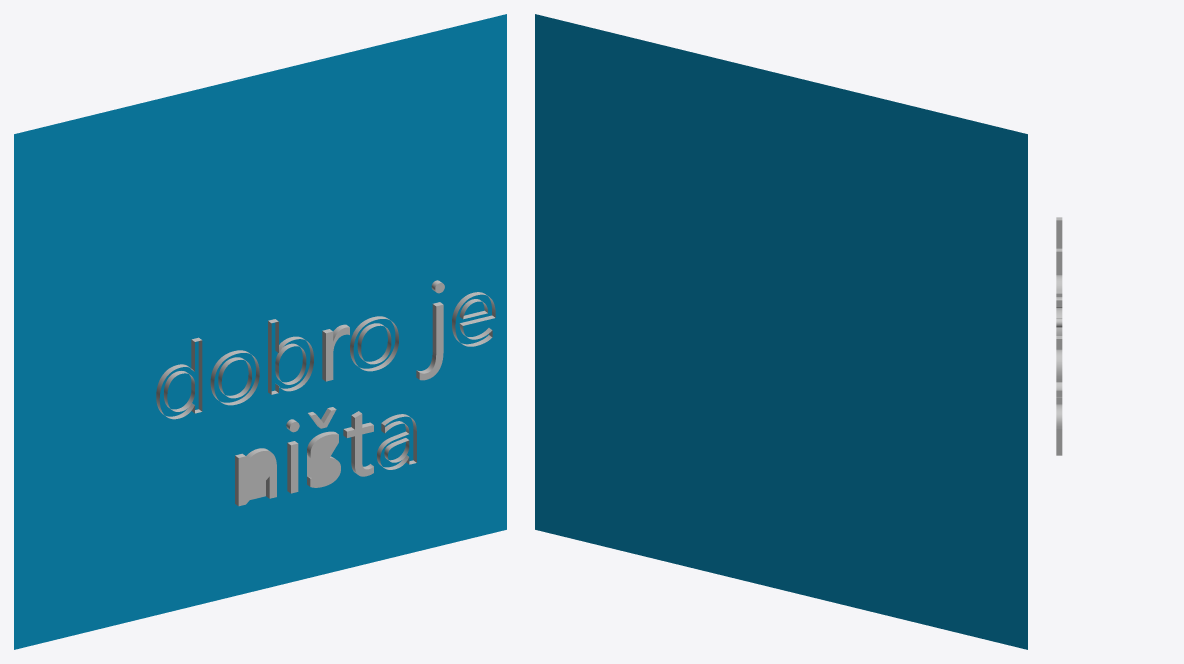
File: ar_cut_v004_kit_v1.dae
3 renders of one model, left to right at view 1: azimuth 30°, elevation 25°; view 2: azimuth 150°, elevation 25°; view 3: azimuth 270°, elevation 25°, orthographic. The views are drawn at different scales.
Visible parts, largest first — view 1: Plane, text; view 2: Plane; view 3: text.
Part boxes in pixels (box(x1,y1,x2,y2)): Plane: box(14, 14, 506, 649); text: box(156, 280, 495, 506); Plane: box(535, 14, 1027, 649); text: box(1056, 217, 1062, 455).
Size of the model in its own units: 400 by 400 by 94.54.
